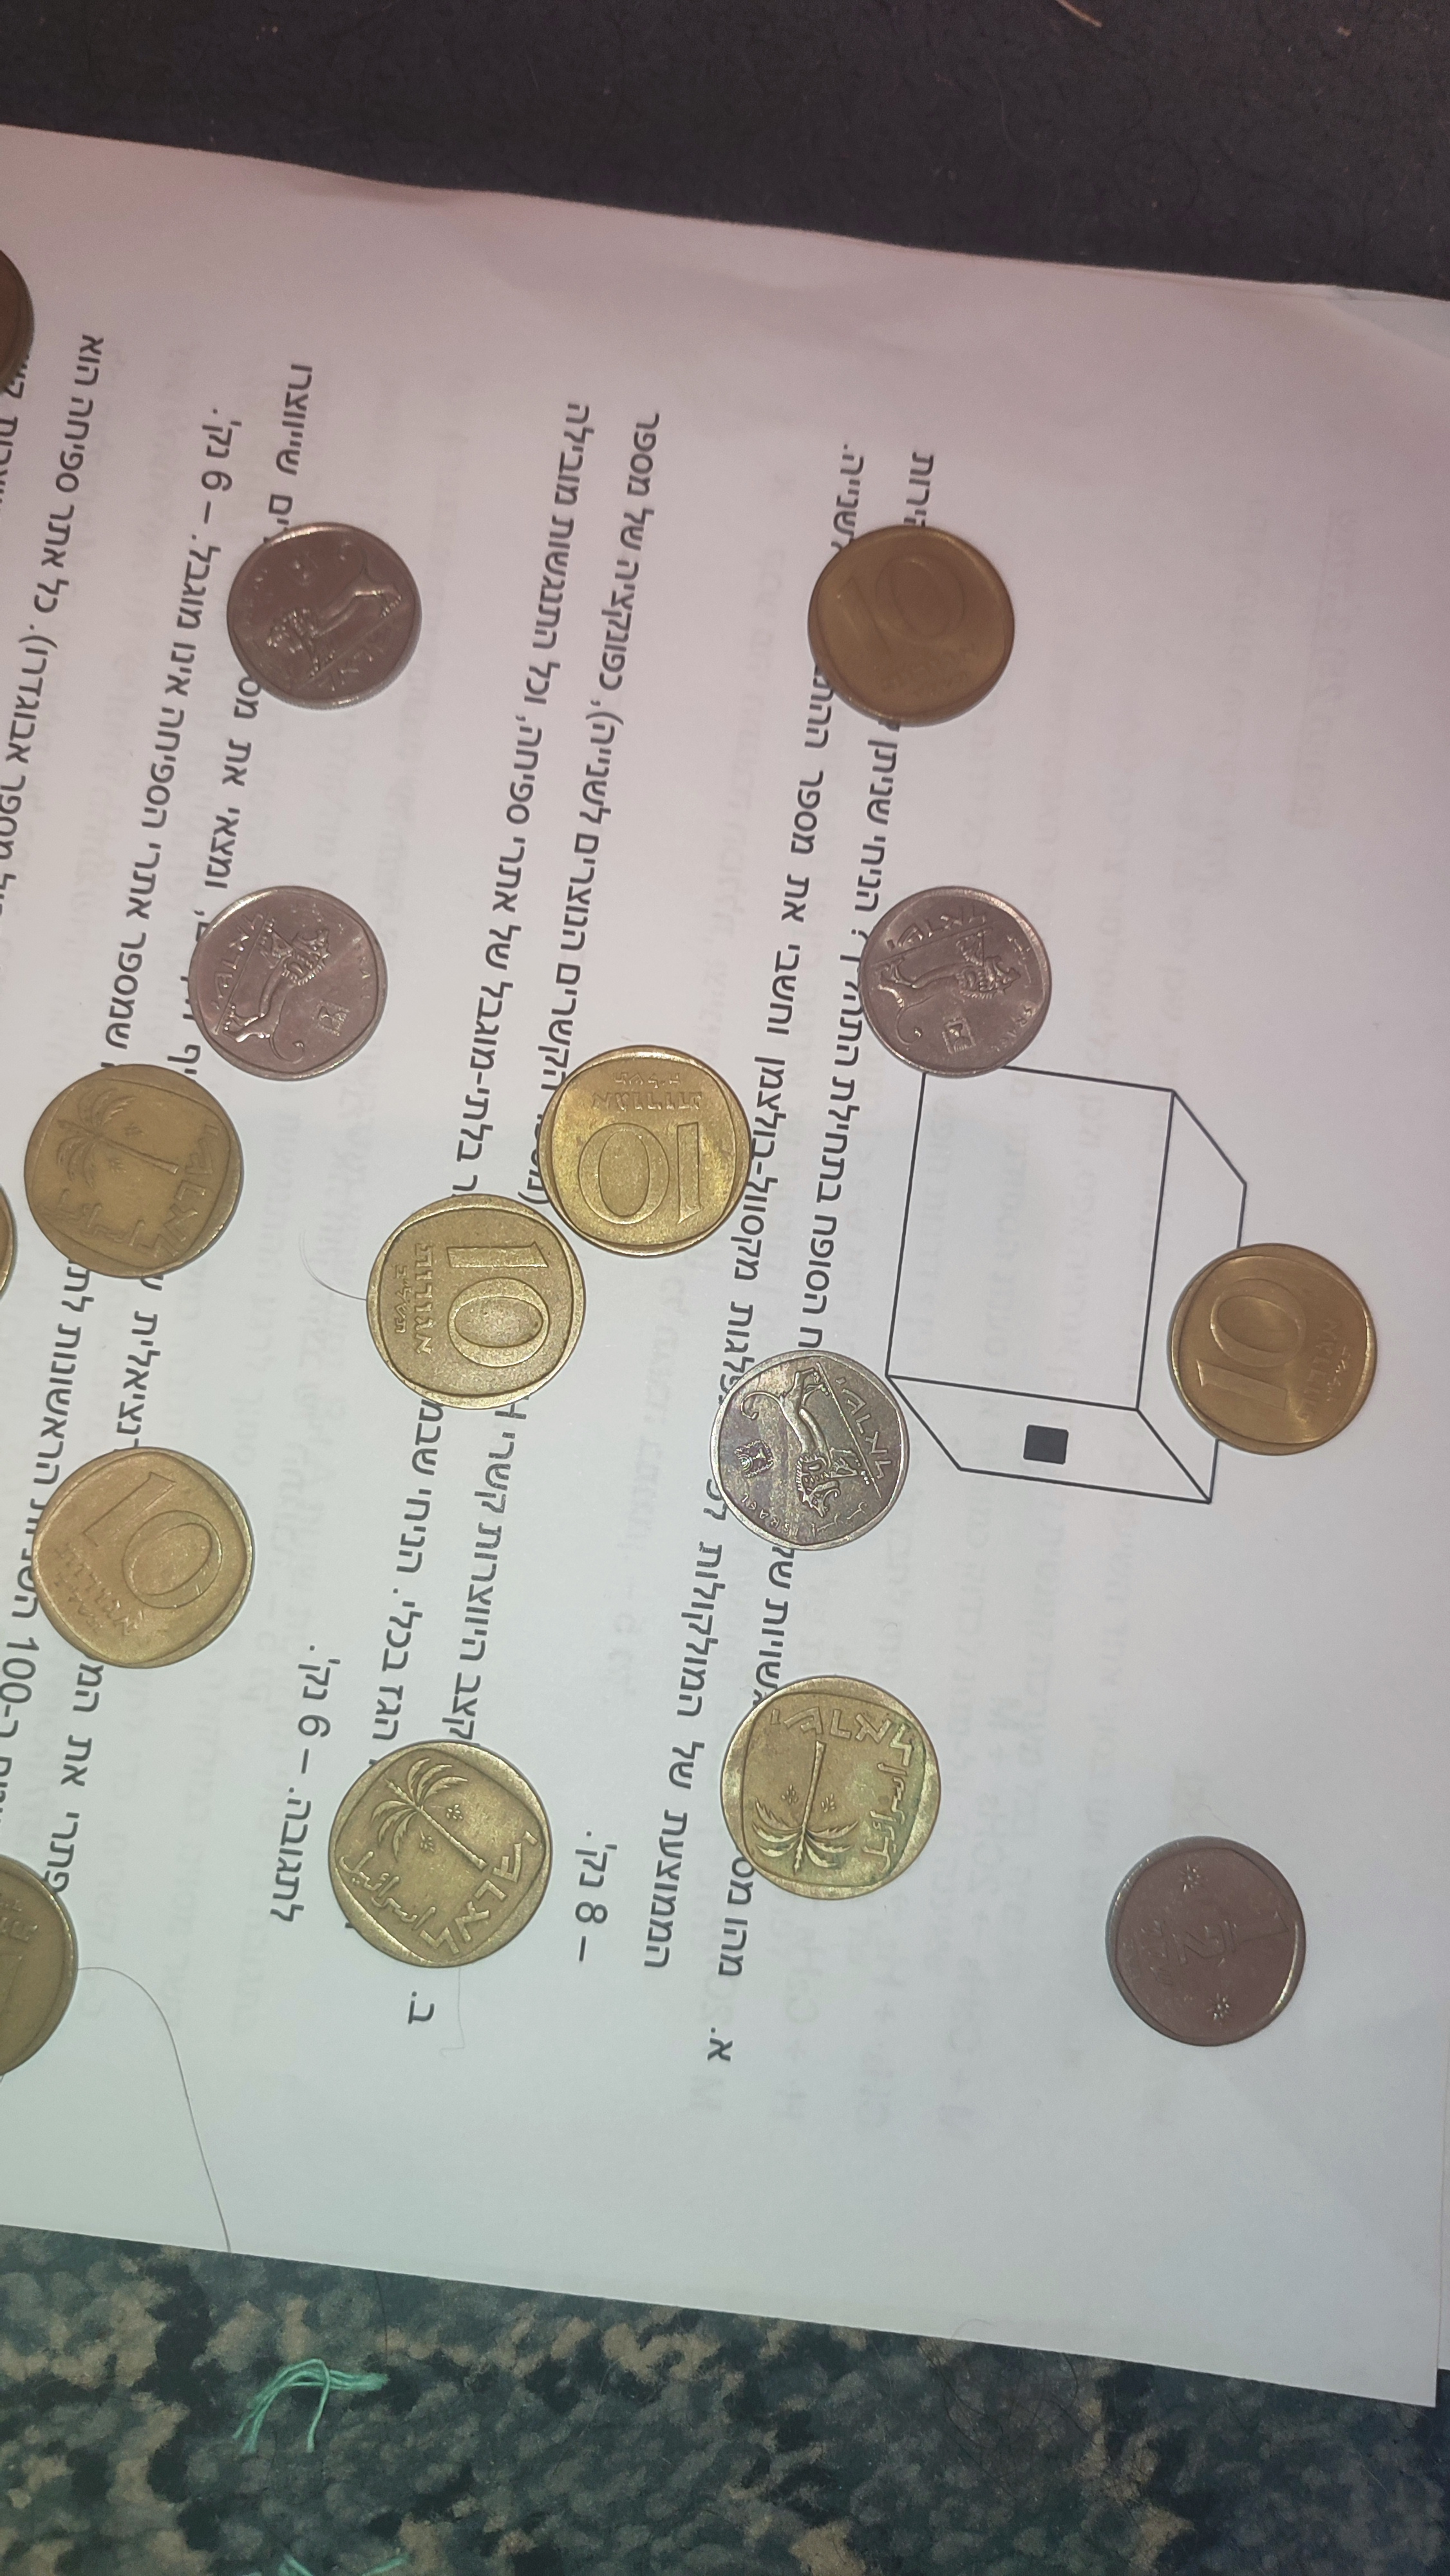1/2 old sheqel: (1100, 1833, 1310, 2052), (706, 1346, 912, 1553), (186, 883, 391, 1085), (854, 883, 1054, 1081), (223, 520, 424, 711)
10 old agora brown: (324, 1737, 555, 1971), (27, 1444, 256, 1672), (716, 1670, 943, 1902), (362, 1191, 591, 1414), (19, 1060, 246, 1283), (1162, 1240, 1383, 1460), (534, 1044, 757, 1261), (805, 520, 1017, 729)
